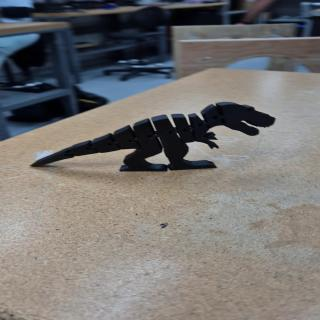dino: (28, 101, 277, 172)
